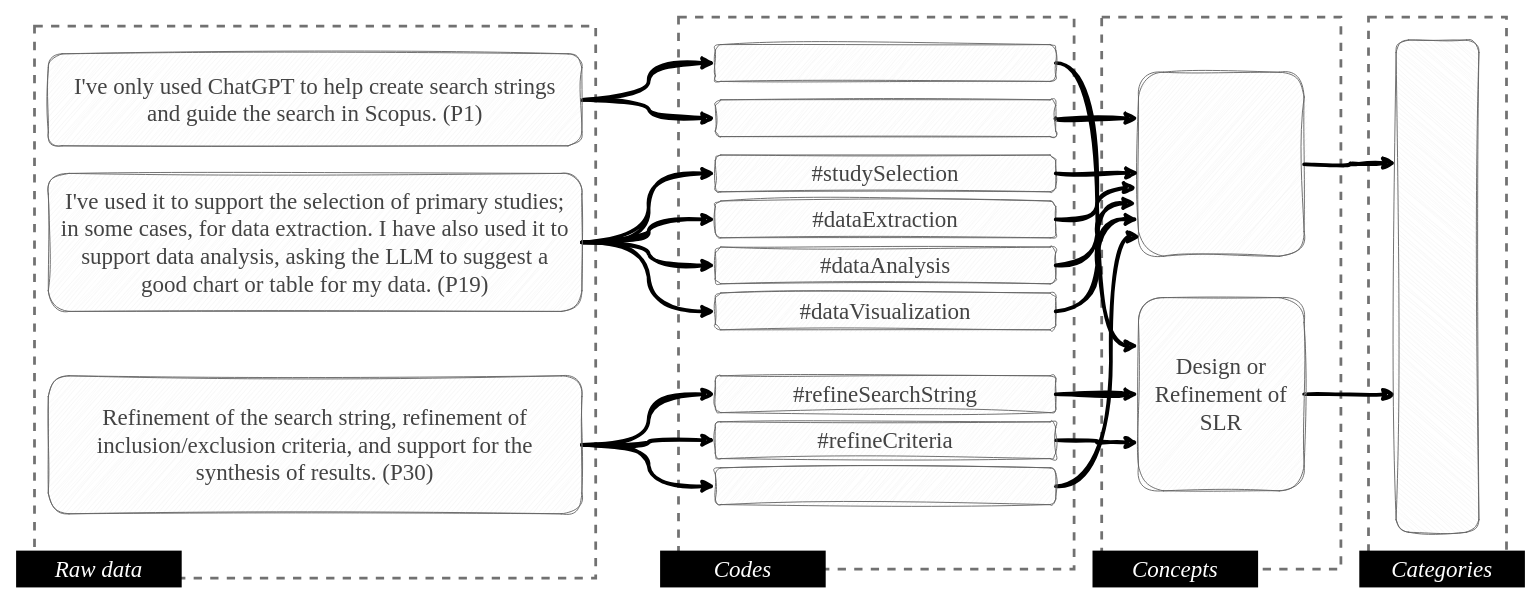
Some shapes in this 1540 by 604 pixel diagram are drawn without their labels. The centre of each missing label's shape, as x and y in pixels:
"#searchStringCreation" goes at point (885, 62).
"#supportSearchInDatabases" goes at point (885, 118).
"#supportSynthesisOfResults" goes at point (885, 486).
"Support for SLR tasks" goes at point (1221, 163).
"Usage of LLMs to SLR process" goes at point (1437, 285).
